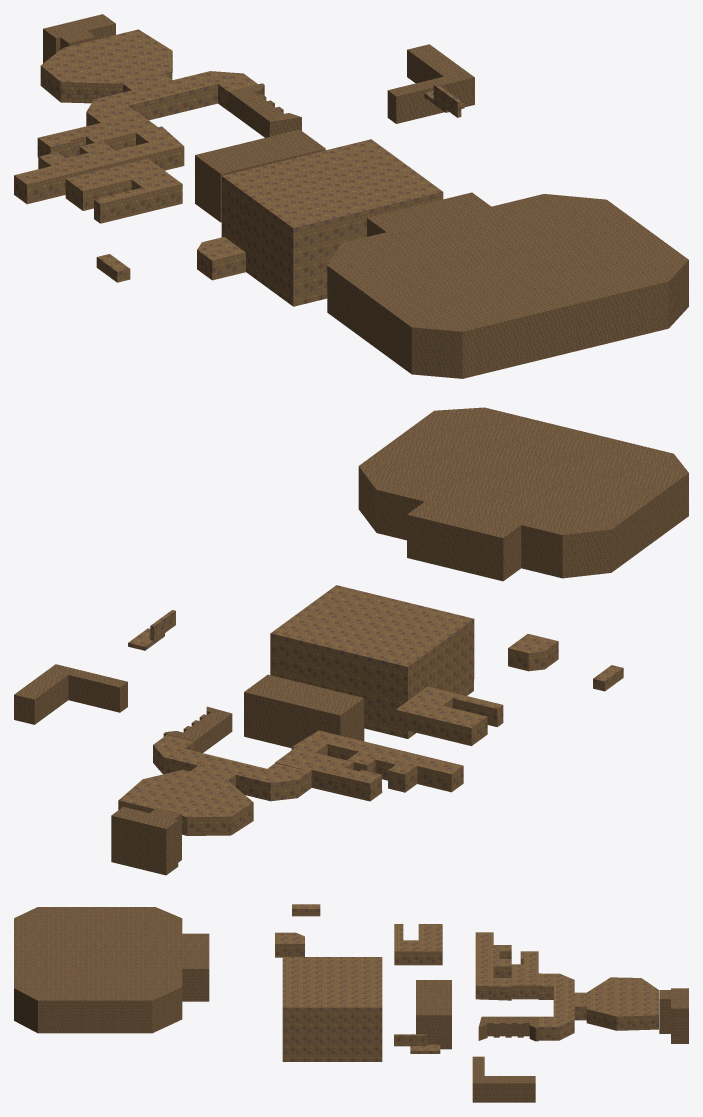
The model's file is FloorsReimport.fbx.
3 renders of one model, top to bottom at view 1: azimuth 30°, elevation 25°; view 2: azimuth 150°, elevation 25°; view 3: azimuth 270°, elevation 25°, orthographic. The views are drawn at different scales.
Visible parts, largest first — view 1: PolyShape__15_, Cube__2_, PolyShape__12_, PolyShape__8_, PolyShape__14_, PolyShape__18_, Cube__1_, PolyShape, PolyShape__9_, PolyShape__6_, PolyShape__13_, Cube (+2 smaller); view 2: PolyShape__15_, Cube__2_, Cube__1_, PolyShape__12_, PolyShape__8_, PolyShape__18_, PolyShape__14_, PolyShape, Cube, PolyShape__9_, PolyShape__6_, PolyShape__13_; view 3: PolyShape__15_, Cube__2_, PolyShape__12_, PolyShape__18_, PolyShape__8_, Cube__1_, PolyShape, PolyShape__14_, PolyShape__6_, PolyShape__9_, Cube, PolyShape__13_ (+3 smaller).
Part boxes in pixels (box(x1,y1,x2,y2)): PolyShape__15_: box(327, 192, 688, 378); Cube__2_: box(221, 139, 443, 306); PolyShape__12_: box(40, 29, 172, 103); PolyShape__8_: box(14, 126, 184, 204); PolyShape__14_: box(65, 159, 182, 223); PolyShape__18_: box(86, 71, 257, 126); Cube__1_: box(195, 129, 325, 222); PolyShape: box(387, 44, 474, 123); PolyShape__9_: box(37, 111, 157, 158); PolyShape__6_: box(228, 83, 301, 137); PolyShape__13_: box(197, 237, 245, 280); Cube: box(43, 14, 115, 63); PolyShape__15_: box(358, 407, 688, 581); Cube__2_: box(270, 585, 474, 738); Cube__1_: box(244, 674, 364, 748); PolyShape__12_: box(118, 769, 253, 835); PolyShape__8_: box(291, 730, 463, 792); PolyShape__18_: box(153, 735, 309, 801); PolyShape__14_: box(396, 686, 503, 745); PolyShape: box(14, 664, 127, 724); Cube: box(111, 807, 178, 875); PolyShape__9_: box(275, 748, 382, 801); PolyShape__6_: box(163, 706, 232, 752); PolyShape__13_: box(508, 634, 558, 671); PolyShape__15_: box(14, 907, 209, 1033); Cube__2_: box(282, 957, 382, 1061); PolyShape__12_: box(586, 977, 658, 1030); PolyShape__18_: box(538, 973, 586, 1040); PolyShape__8_: box(475, 932, 511, 1000); Cube__1_: box(416, 980, 451, 1049); PolyShape: box(472, 1056, 535, 1102); PolyShape__14_: box(394, 924, 442, 965); PolyShape__6_: box(478, 1016, 538, 1041); PolyShape__9_: box(511, 951, 541, 999); Cube: box(671, 988, 688, 1043); PolyShape__13_: box(275, 932, 304, 957).
Bounding box in the file's own units: 130 × 31.19 × 225.
Materials: 2 (2 with a texture image).
